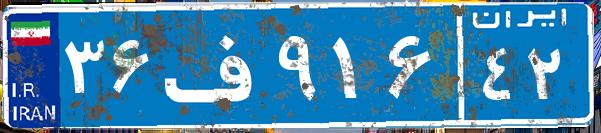1: (330, 28, 385, 110)
2: (525, 38, 570, 115)
3: (57, 26, 110, 107)
4: (475, 38, 525, 113)
6: (385, 28, 445, 110), (110, 28, 158, 105)
9: (273, 28, 330, 110)
ف: (158, 15, 273, 115)
